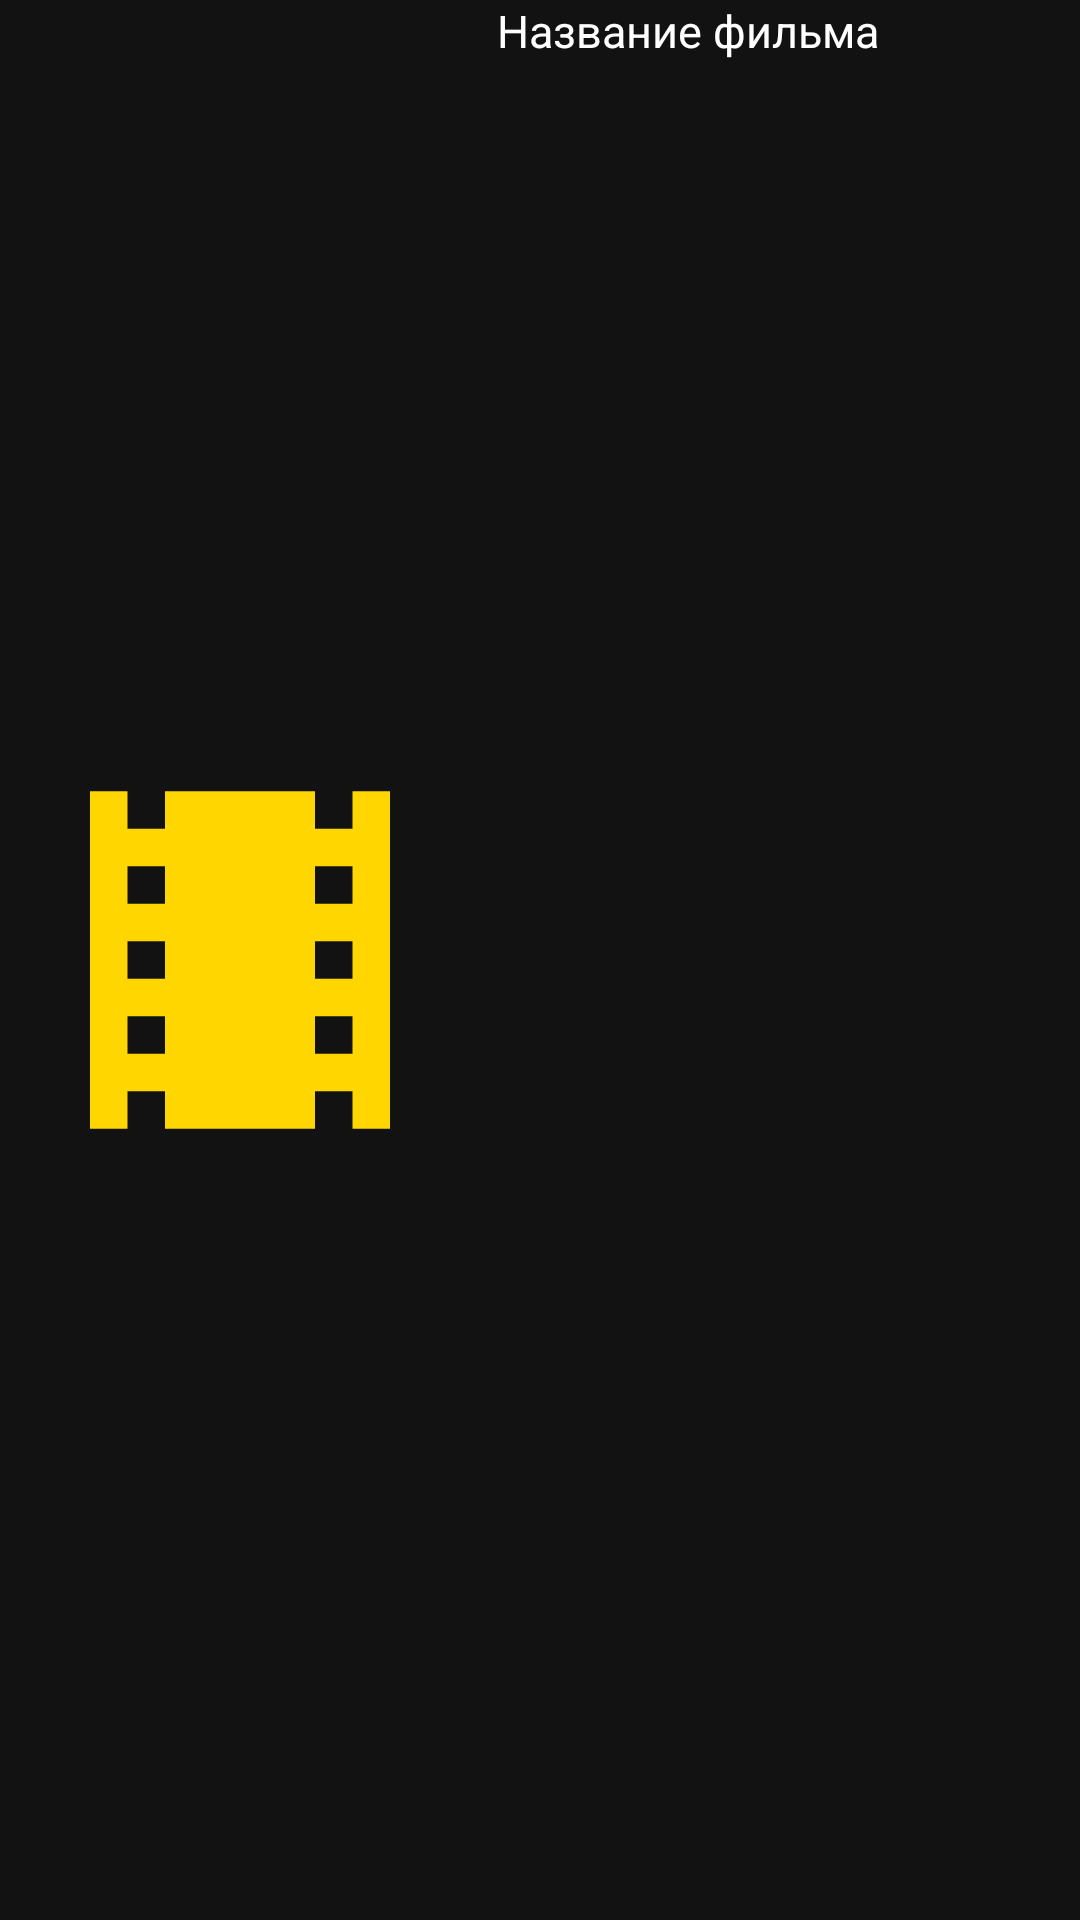

Named icons in this screenshot (1080x1920) and their centers, (x,y):
local movies: (240,960)
